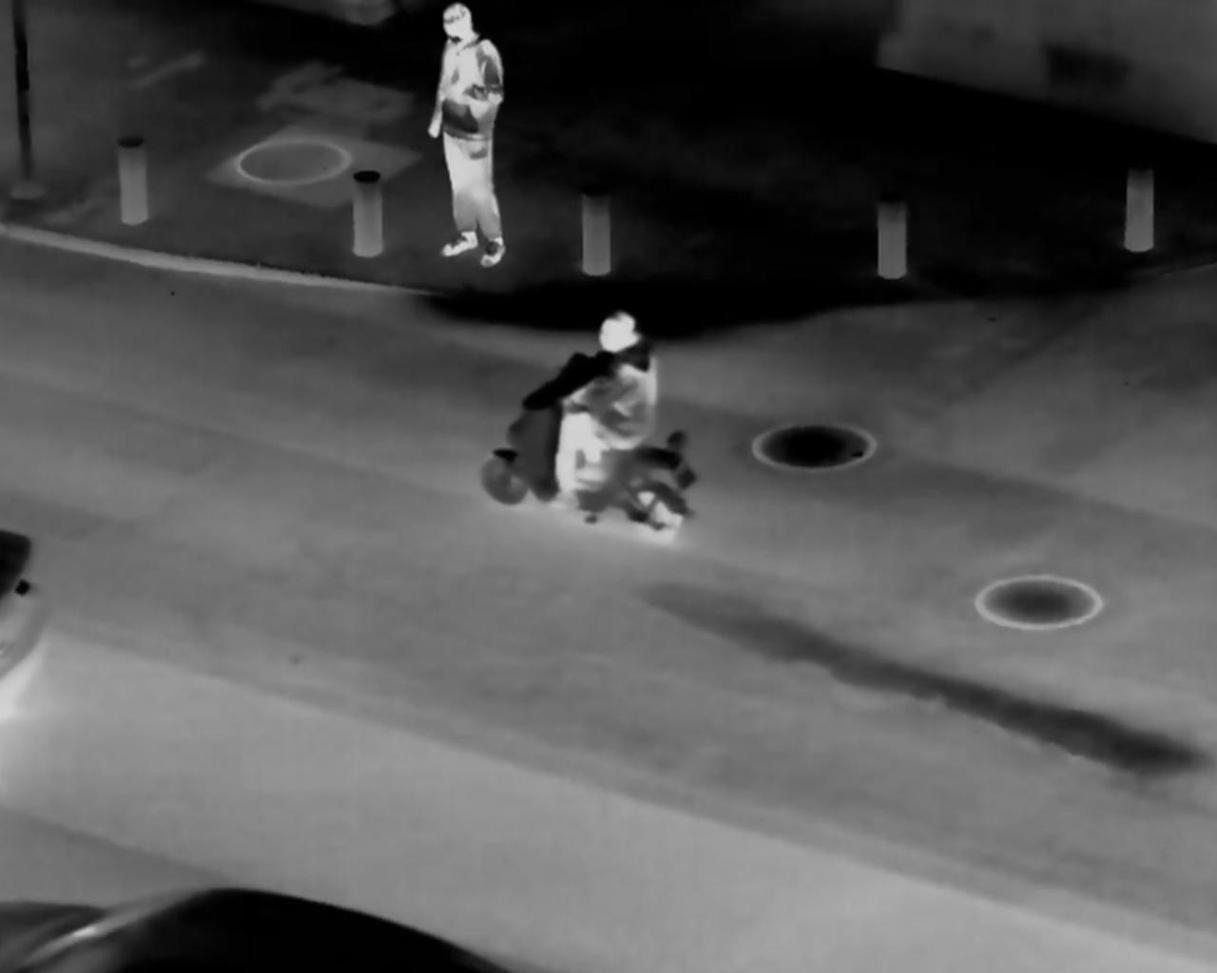person: (550, 296, 658, 528), (426, 6, 511, 267)
